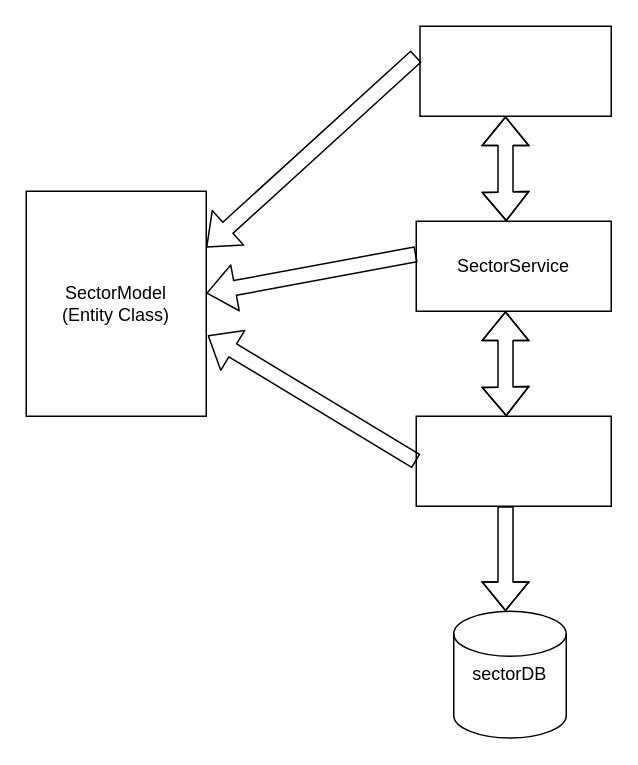
This 638x765 diagram has some shape labels left out. Each missing label, with the centre of its shape:
"SectorController" goes at (x=514, y=70).
"SectorDao Repository)" goes at (x=513, y=460).
